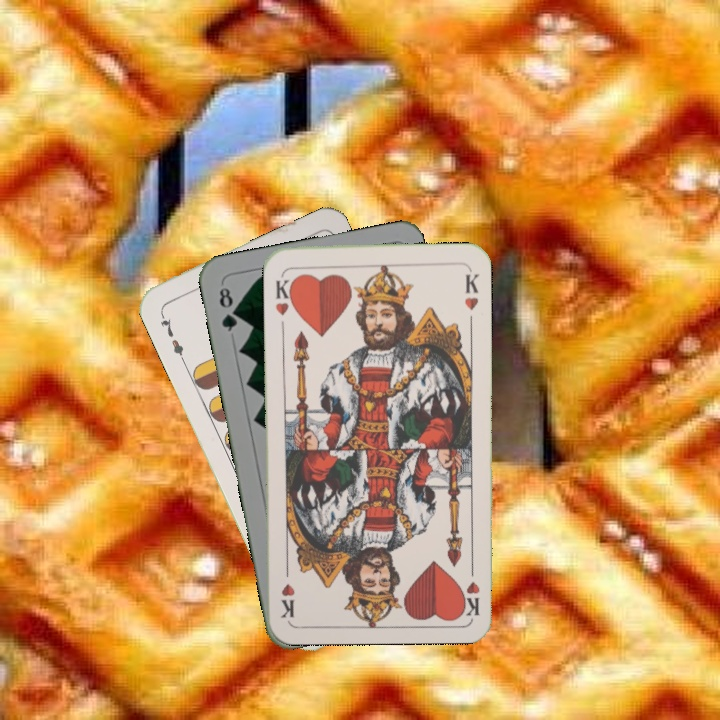E7: (156, 308, 187, 364)
G8: (215, 283, 241, 334)
HK: (459, 558, 483, 617), (271, 269, 297, 317)
